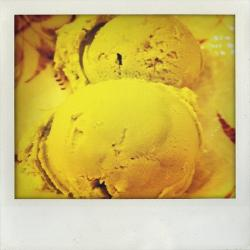icecream: (40, 80, 201, 197), (57, 20, 204, 97)
